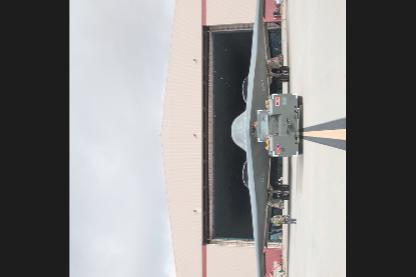B1: (231, 0, 291, 276)
